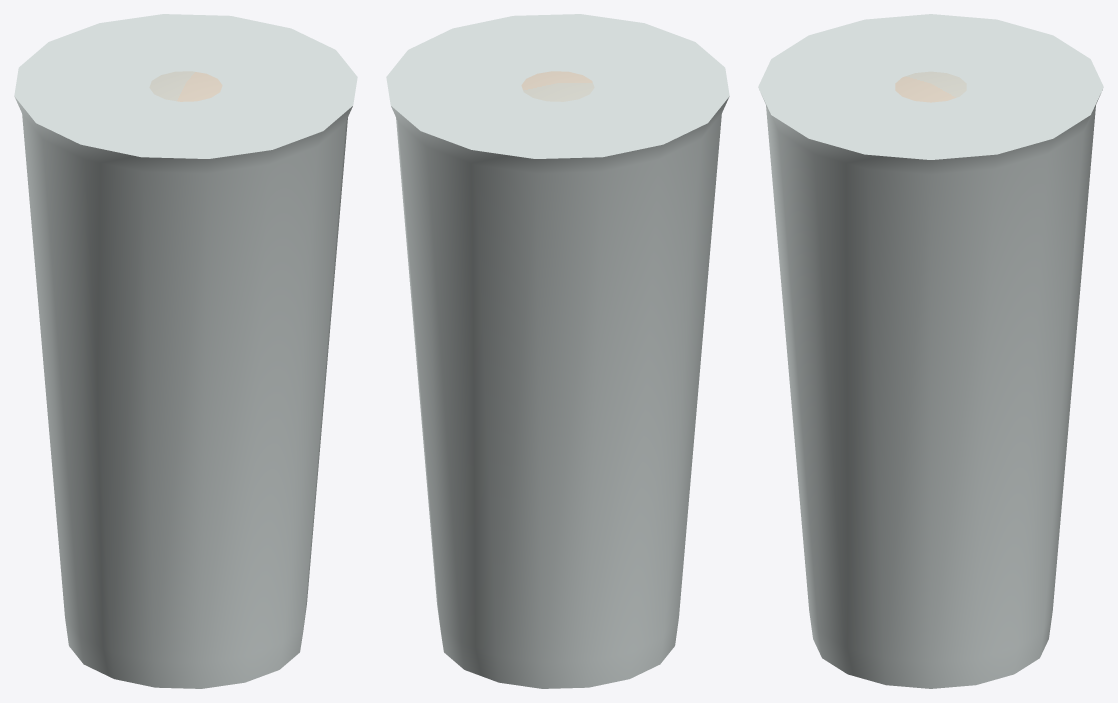
The model's file is drink_pint_beer.glb.
3 renders of one model, left to right at view 1: azimuth 30°, elevation 25°; view 2: azimuth 150°, elevation 25°; view 3: azimuth 270°, elevation 25°, orthographic.
Visible parts, largest first — view 1: Glass, Drinks; view 2: Glass, Drinks; view 3: Glass, Drinks.
Boxes of the visible parts, left/top/right/bottom form: Glass: left=14, top=14, right=357, bottom=688; Drinks: left=149, top=71, right=222, bottom=101; Glass: left=386, top=14, right=729, bottom=688; Drinks: left=521, top=71, right=594, bottom=101; Glass: left=758, top=14, right=1103, bottom=688; Drinks: left=895, top=71, right=966, bottom=102.
Bounding box in the file's own units: 0.088 × 0.156 × 0.088.
Materials: 2 (1 with a texture image).
